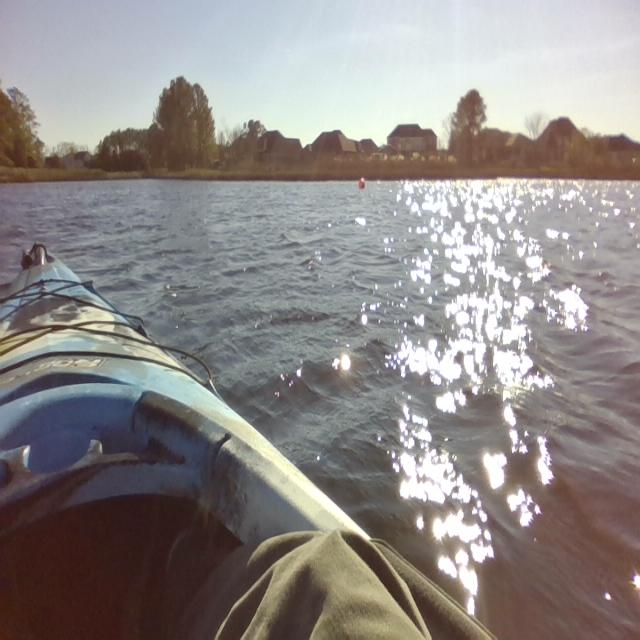Buoy: (356, 172, 366, 192)
